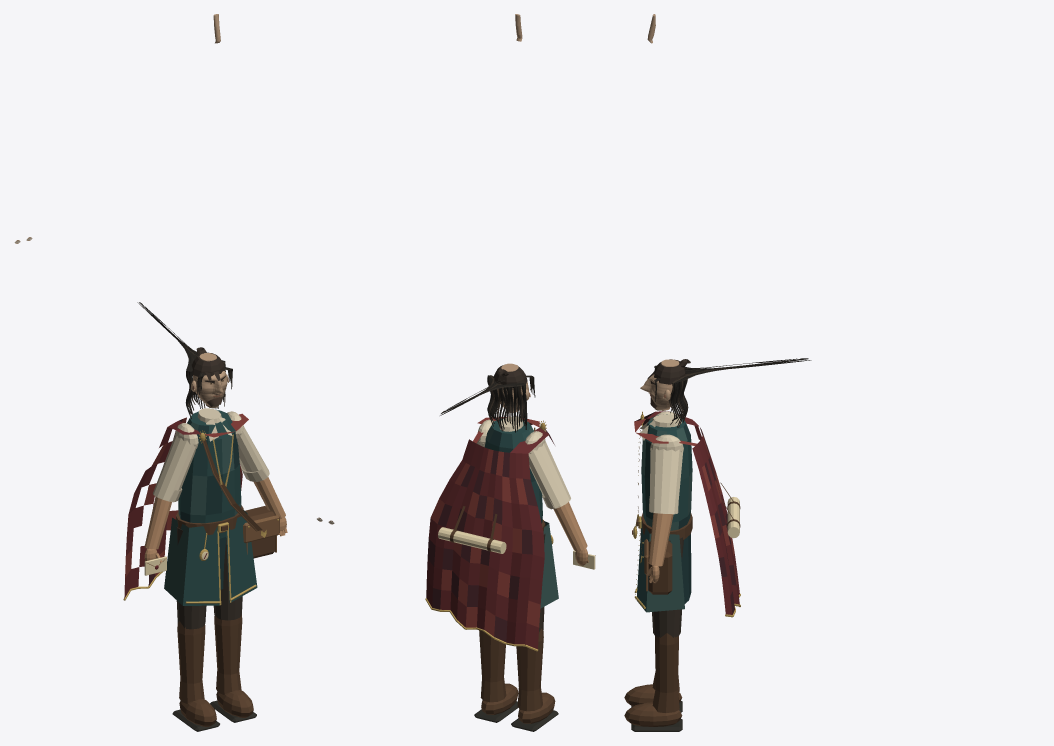
The model's file is courier.glb.
The picture shows the model from 3 angles, left to right: view 1: azimuth 30°, elevation 25°; view 2: azimuth 150°, elevation 25°; view 3: azimuth 270°, elevation 25°; orthographic projection.
Parts seen in each view (by area): view 1: Waistcoat, Split_coat_R, Cloak_folds, Boot_shaft_R, Boot_shaft_L, Split_coat_L, Linen_sleeve_R, Forearm_R, Face, Trouser_thigh_L, Linen_sleeve_L, Boot_toe_R (+8 smaller); view 2: Cloak_folds, Boot_shaft_R, Boot_shaft_L, Linen_sleeve_R, Waistcoat, Split_coat_R, Map_roll, Forearm_R, Boot_toe_R, Boot_toe_L; view 3: Cloak_folds, Waistcoat, Linen_sleeve_L, Split_coat_L, Boot_shaft_L, Boot_toe_L, Forearm_L, Trouser_thigh_L, Messenger_satchel, Face.
Part boxes in pixels (<box>): Waistcoat: <box>178,410,241,538</box>; Split_coat_R: <box>164,517,219,605</box>; Cloak_folds: <box>124,413,248,598</box>; Boot_shaft_R: <box>177,621,205,703</box>; Boot_shaft_L: <box>214,613,242,694</box>; Split_coat_L: <box>226,510,257,602</box>; Linen_sleeve_R: <box>153,434,197,502</box>; Forearm_R: <box>144,496,171,549</box>; Face: <box>193,353,227,408</box>; Trouser_thigh_L: <box>213,538,242,620</box>; Linen_sleeve_L: <box>237,427,269,481</box>; Boot_toe_R: <box>179,699,216,726</box>; Cloak_folds: <box>426,416,554,649</box>; Boot_shaft_R: <box>516,628,543,711</box>; Boot_shaft_L: <box>479,630,506,702</box>; Linen_sleeve_R: <box>528,441,570,509</box>; Waistcoat: <box>484,418,542,523</box>; Split_coat_R: <box>540,521,558,608</box>; Map_roll: <box>438,527,506,553</box>; Forearm_R: <box>553,502,587,551</box>; Boot_toe_R: <box>518,692,555,723</box>; Boot_toe_L: <box>481,683,518,714</box>; Cloak_folds: <box>634,411,739,614</box>; Waistcoat: <box>641,414,692,530</box>; Linen_sleeve_L: <box>649,448,683,514</box>; Split_coat_L: <box>637,521,684,612</box>; Boot_shaft_L: <box>652,633,679,713</box>; Boot_toe_L: <box>624,702,682,726</box>; Forearm_L: <box>648,513,673,566</box>; Trouser_thigh_L: <box>652,537,683,637</box>; Messenger_satchel: <box>648,540,672,594</box>; Face: <box>640,359,679,410</box>.
Size of the model in its own units: 0.7395 by 3.42 by 1.83.
